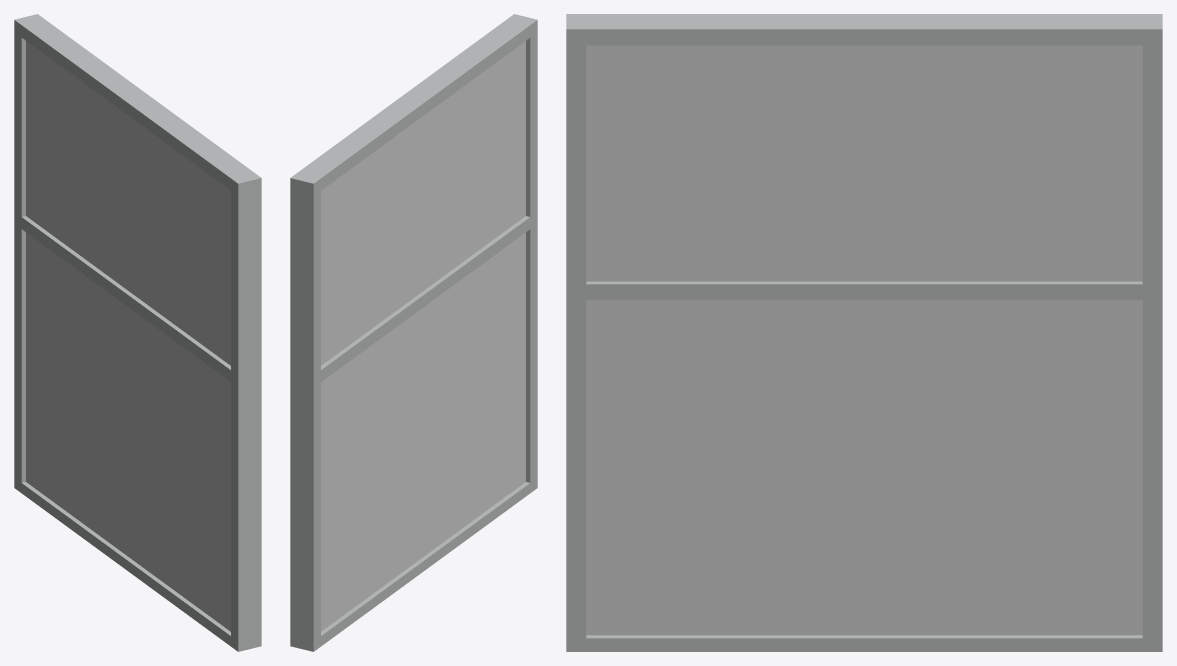
Rendered from window.fbx.
3 views of the same model, side by side, from view 1: azimuth 30°, elevation 25°; view 2: azimuth 150°, elevation 25°; view 3: azimuth 270°, elevation 25° (orthographic). The views are drawn at different scales.
Parts seen in each view (by area): view 1: window; view 2: window; view 3: window.
Boxes of the visible parts, x1,y1,x2,y2 form: window: (14,14,261,651); window: (290,14,537,651); window: (566,14,1162,651).
Size of the model in its own units: 0.2556 by 4.87 by 4.22.
Materials: 2 (1 with a texture image).
